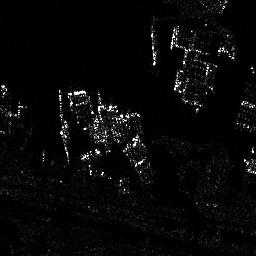ship: (151, 15, 159, 67)
